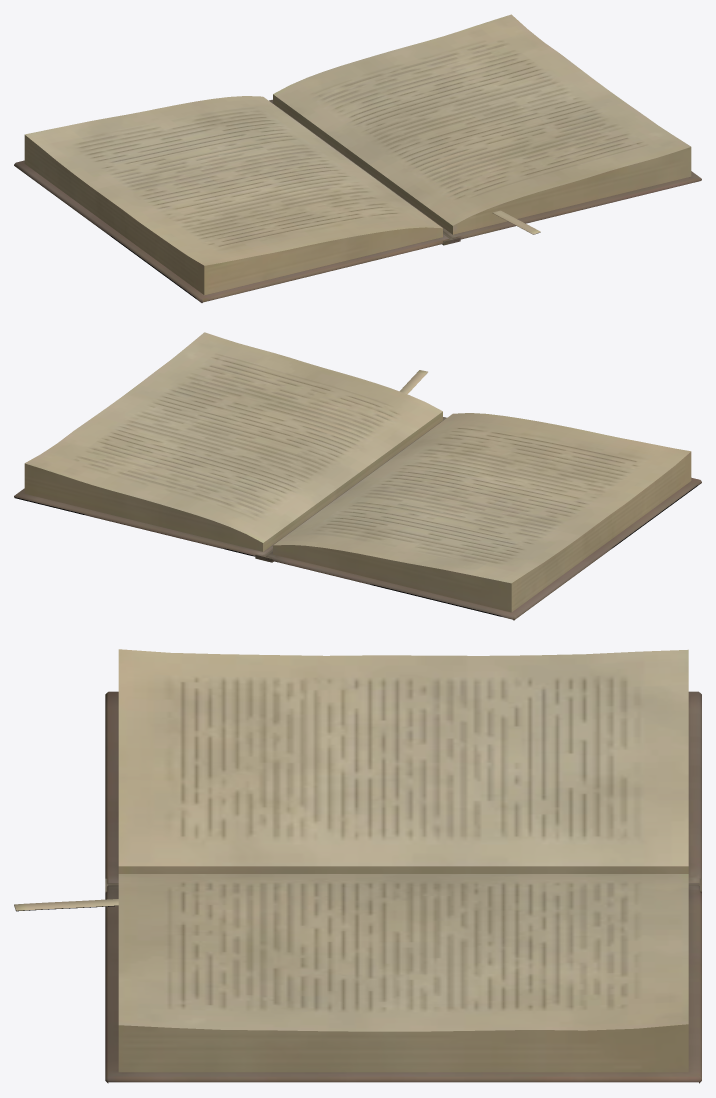
File: book-open.glb
3 renders of one model, top to bottom at view 1: azimuth 30°, elevation 25°; view 2: azimuth 150°, elevation 25°; view 3: azimuth 270°, elevation 25°, orthographic. The views are drawn at different scales.
Visible parts, largest first — view 1: book; view 2: book; view 3: book.
Boxes of the visible parts, <box> form: book: <box>14,14,701,302</box>; book: <box>14,332,701,620</box>; book: <box>14,649,701,1083</box>.
Size of the model in its own units: 0.412 by 0.0273 by 0.309.
Materials: 1 (1 with a texture image).
